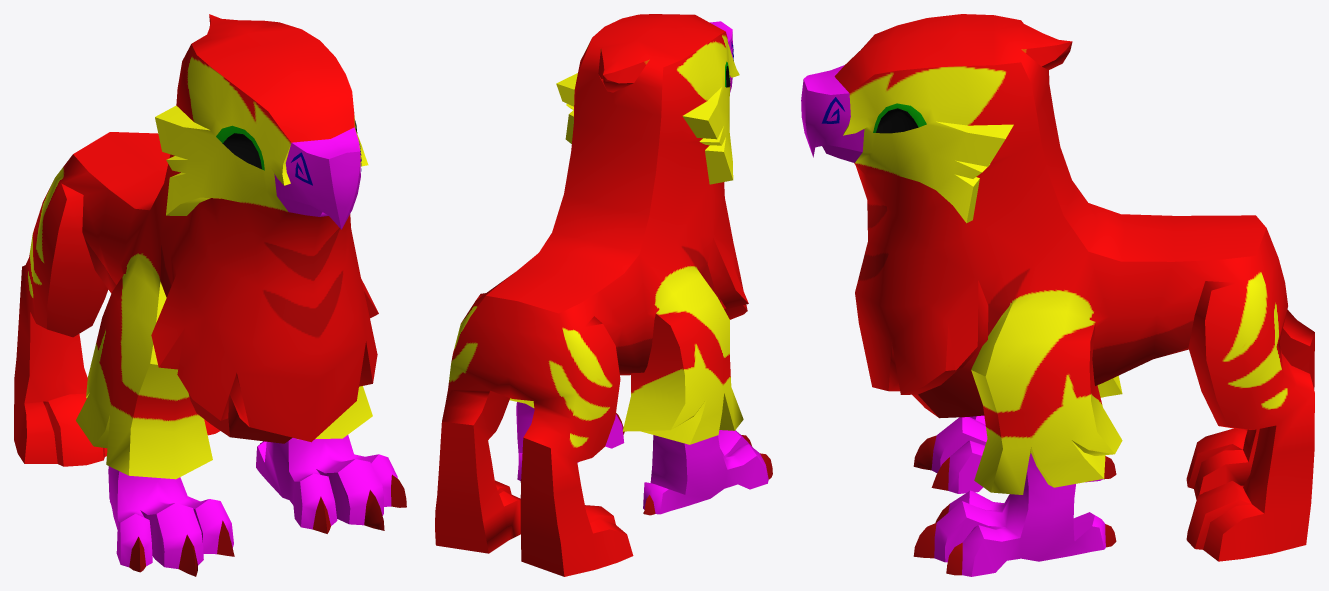
Rendered from griffin.glb.
3 renders of one model, left to right at view 1: azimuth 30°, elevation 25°; view 2: azimuth 150°, elevation 25°; view 3: azimuth 270°, elevation 25°, orthographic. The views are drawn at different scales.
Parts seen in each view (by area): view 1: Griffin_LQ_Body_Mesh; view 2: Griffin_LQ_Body_Mesh; view 3: Griffin_LQ_Body_Mesh.
Part boxes in pixels (<box>): Griffin_LQ_Body_Mesh: <box>14,14,406,576</box>; Griffin_LQ_Body_Mesh: <box>435,14,772,576</box>; Griffin_LQ_Body_Mesh: <box>801,14,1314,576</box>.
Size of the model in its own units: 0.8096 by 1.36 by 1.31.
Materials: 1 (1 with a texture image).
